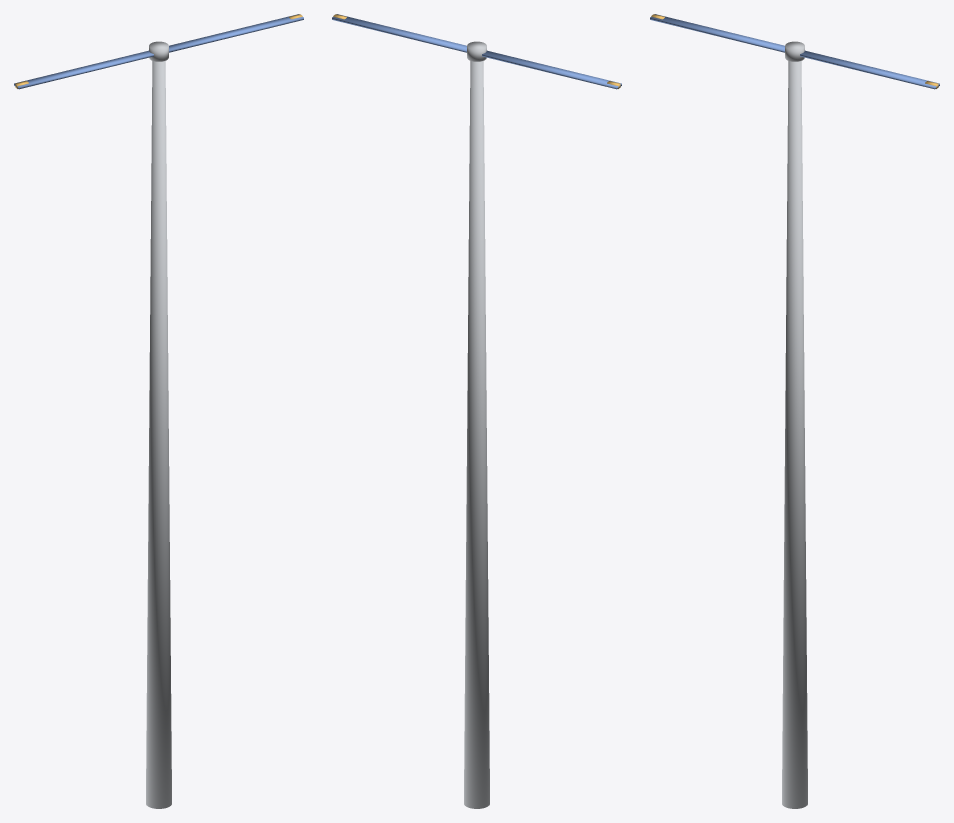
Rendered from tower.glb.
3 views of the same model, side by side, from view 1: azimuth 30°, elevation 25°; view 2: azimuth 150°, elevation 25°; view 3: azimuth 330°, elevation 25° (orthographic).
Visible parts, largest first — view 1: Mast, Blade_B, Blade_A; view 2: Mast, Blade_B, Blade_A; view 3: Mast, Blade_A, Blade_B.
Part boxes in pixels (bbox=[...]): Mast: bbox=[146, 61, 171, 808]; Blade_B: bbox=[14, 50, 153, 89]; Blade_A: bbox=[169, 14, 303, 52]; Mast: bbox=[464, 61, 489, 808]; Blade_B: bbox=[482, 50, 621, 89]; Blade_A: bbox=[332, 14, 466, 52]; Mast: bbox=[782, 61, 807, 808]; Blade_A: bbox=[800, 50, 939, 89]; Blade_B: bbox=[650, 14, 784, 52].
Bounding box in the file's own units: 200 × 508 × 16.
